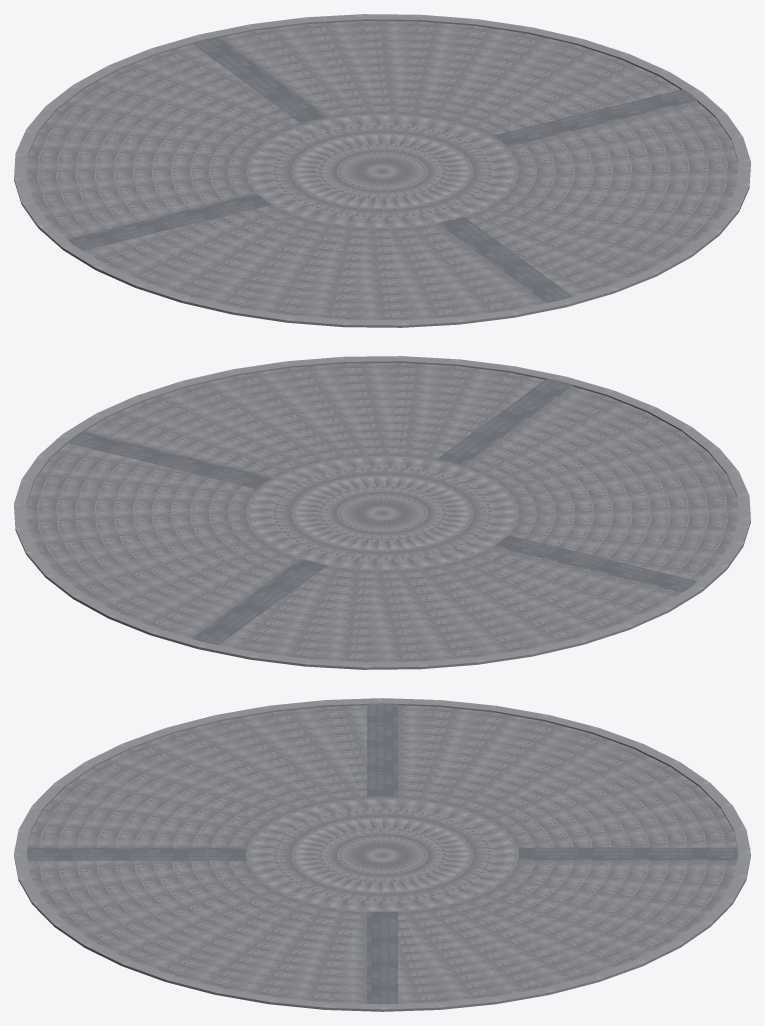
File: city_small_base.glb
3 views of the same model, one above another, from view 1: azimuth 30°, elevation 25°; view 2: azimuth 150°, elevation 25°; view 3: azimuth 270°, elevation 25° (orthographic).
Parts seen in each view (by area): view 1: ae_snow_city_small_base; view 2: ae_snow_city_small_base; view 3: ae_snow_city_small_base.
Part boxes in pixels (x1,y1,x2,y2): ae_snow_city_small_base: (14, 14, 750, 327); ae_snow_city_small_base: (14, 356, 750, 669); ae_snow_city_small_base: (14, 698, 750, 1011).
Size of the model in its own units: 1.77 by 0.00606 by 1.77.
1 material, 1 textured.
